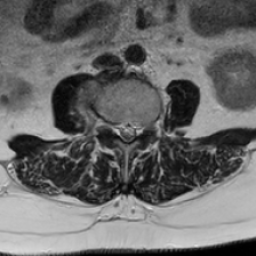CCS_stenosis: (122, 113, 132, 151)
LFS_normal: (141, 110, 152, 140)
LLS_normal: (132, 111, 141, 145)
RFS_normal: (102, 110, 113, 140)
RLS_normal: (113, 113, 122, 145)
